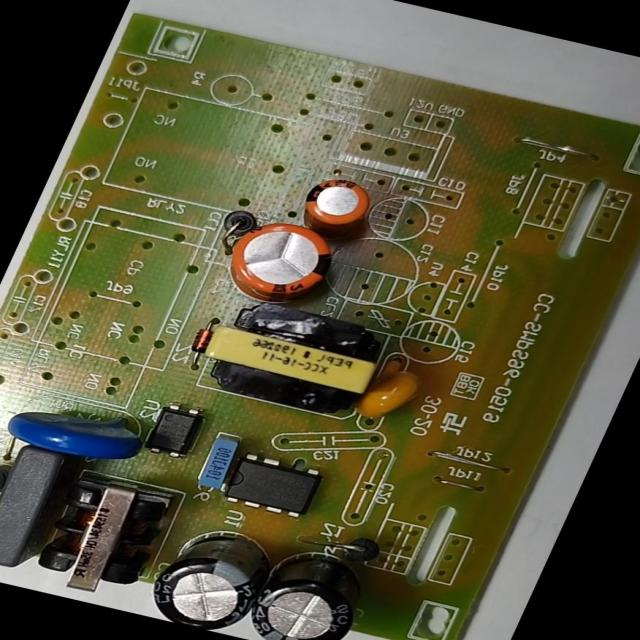Cap1: (210, 207, 356, 312)
Cap2: (280, 168, 389, 245)
Cap3: (134, 514, 294, 639)
Cap4: (230, 531, 390, 639)
MOSFET: (210, 446, 334, 526)
Mov: (0, 387, 167, 475)
Resistor: (0, 449, 19, 505)
Transformer: (182, 290, 404, 428), (20, 468, 187, 606)
